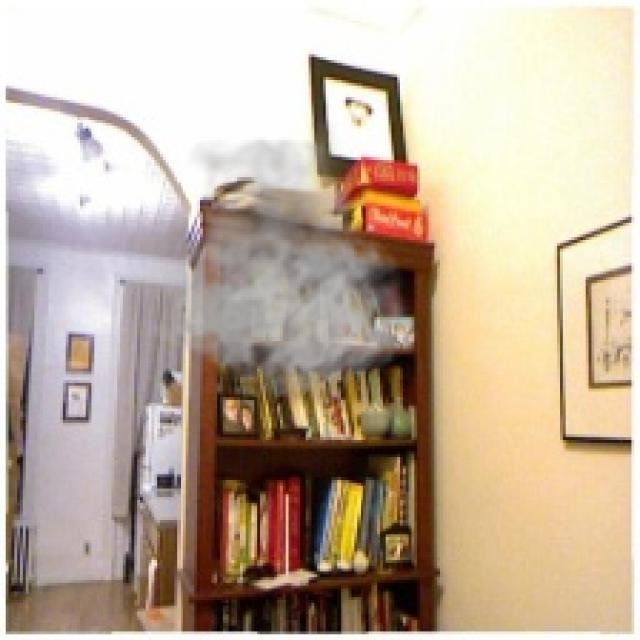smoke: (143, 117, 420, 400)
